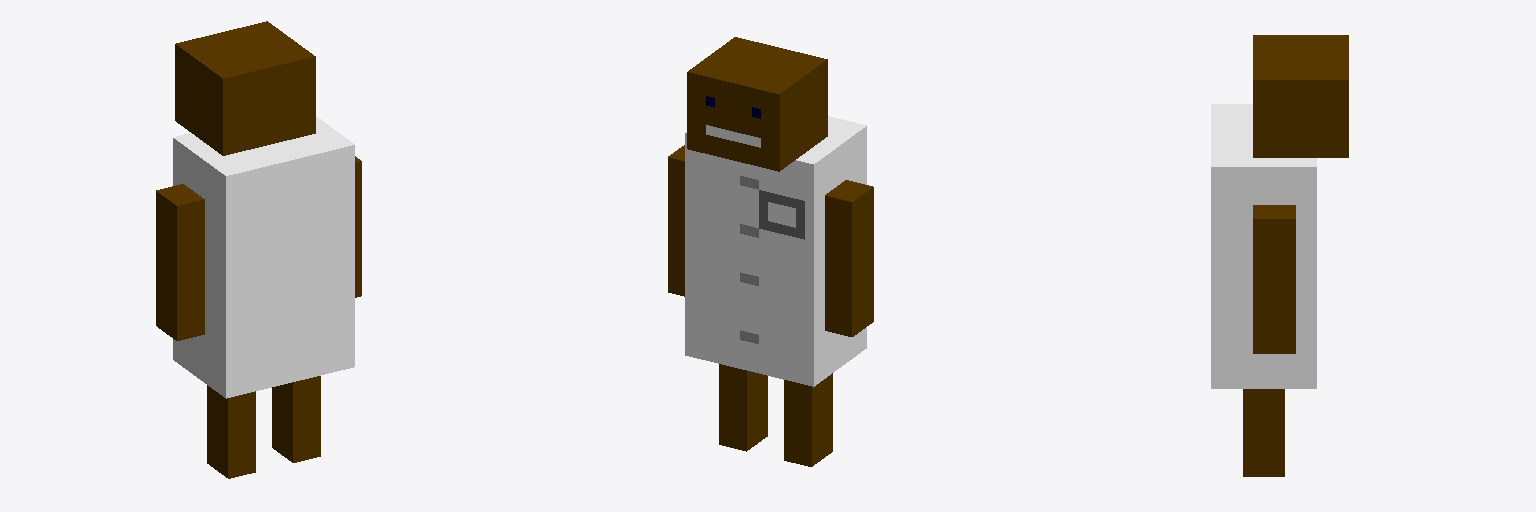
3 renders of one model, left to right at view 1: azimuth 30°, elevation 25°; view 2: azimuth 150°, elevation 25°; view 3: azimuth 270°, elevation 25°, orthographic.
Visible parts, largest first — view 1: scientist_scientist.001; view 2: scientist_scientist.001; view 3: scientist_scientist.001.
Boxes of the visible parts, x1=… form: scientist_scientist.001: x1=156, y1=21, x2=361, y2=478; scientist_scientist.001: x1=668, y1=37, x2=873, y2=466; scientist_scientist.001: x1=1211, y1=35, x2=1348, y2=476.
Bounding box in the file's own units: 2 × 4.1 × 1.3.
1 materials, 1 textured.